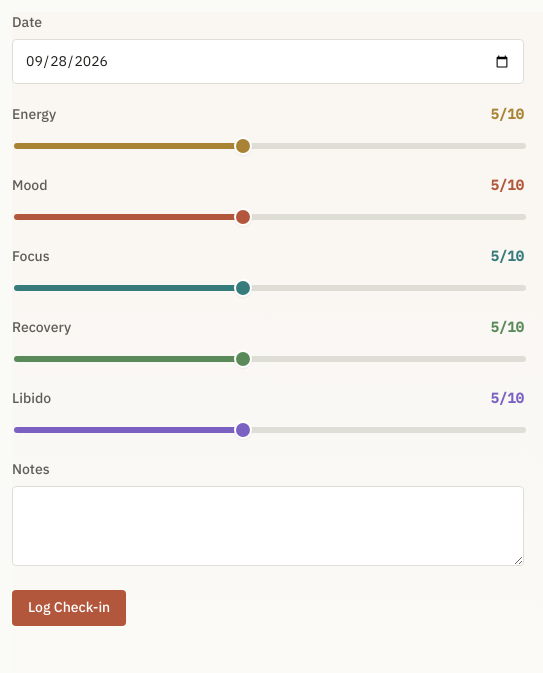
Test case: CheckinForm › mounts an accessible status region before submit, and updates its text (rather than mounting a new node) on success
Step 1. Click the button "Log Check-in" → (69, 608), box [12,590,126,626]
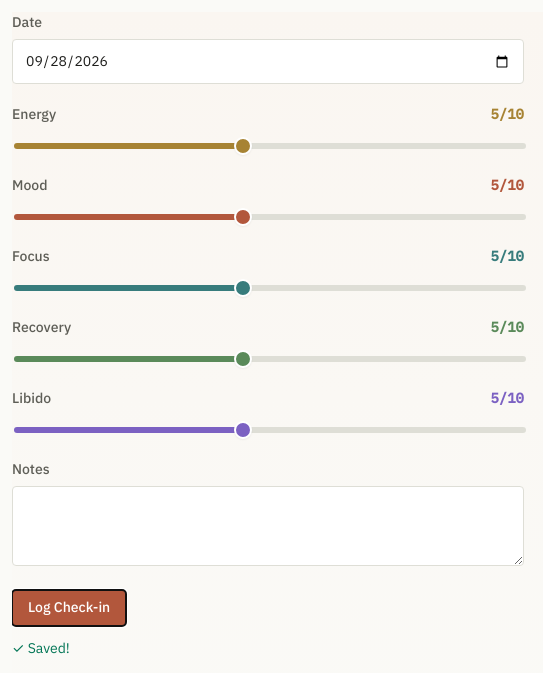
Expected: the message shows "Saved", [28,639,70,657]
